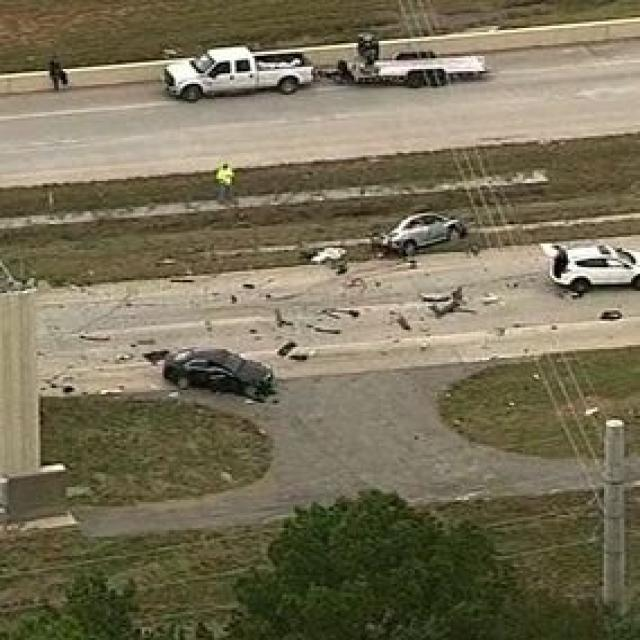traffic_incident: (527, 228, 638, 314), (164, 328, 275, 413), (361, 194, 466, 269)
